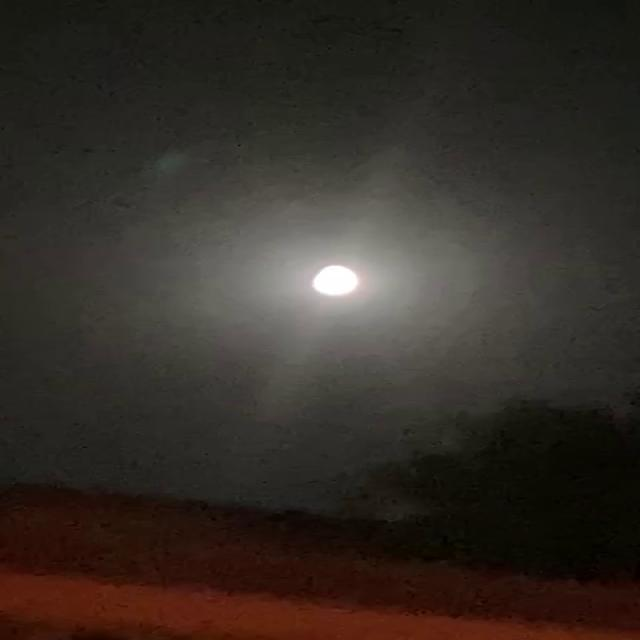moon: (270, 276, 328, 308)
